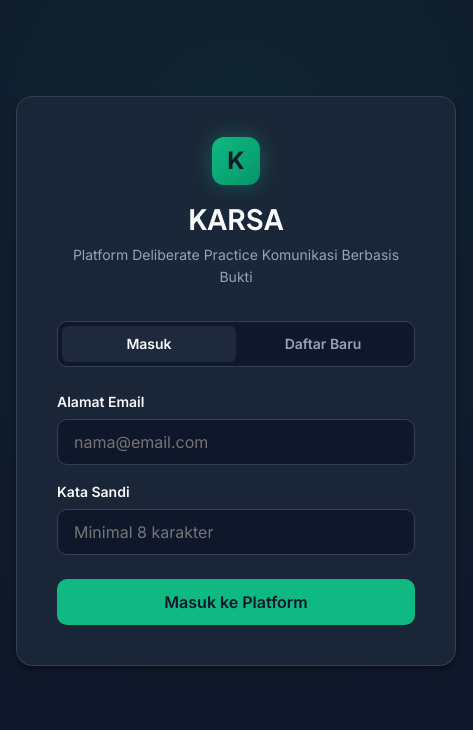
Test: AuthView Component › switches to registration form on tab click
Click the button "Daftar Baru".
click(323, 344)  # box [236,326,410,362]
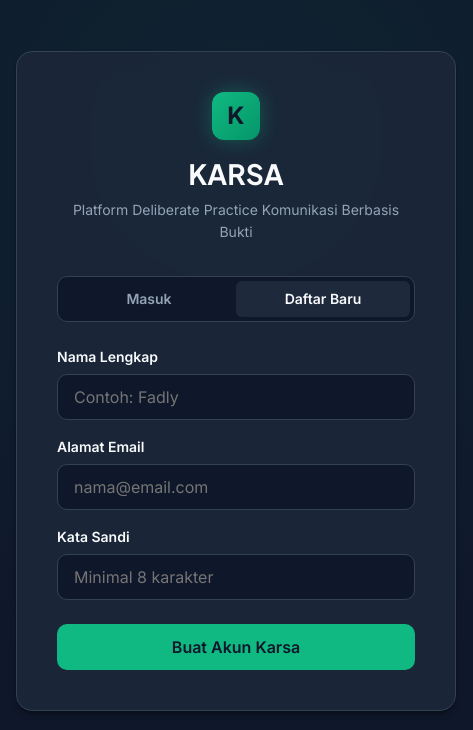
expect the field labelled "Nama Lengkap" is shown: met, box [57,374,415,420]
expect the button "Buat Akun Karsa" is shown: met, box [57,624,415,670]
